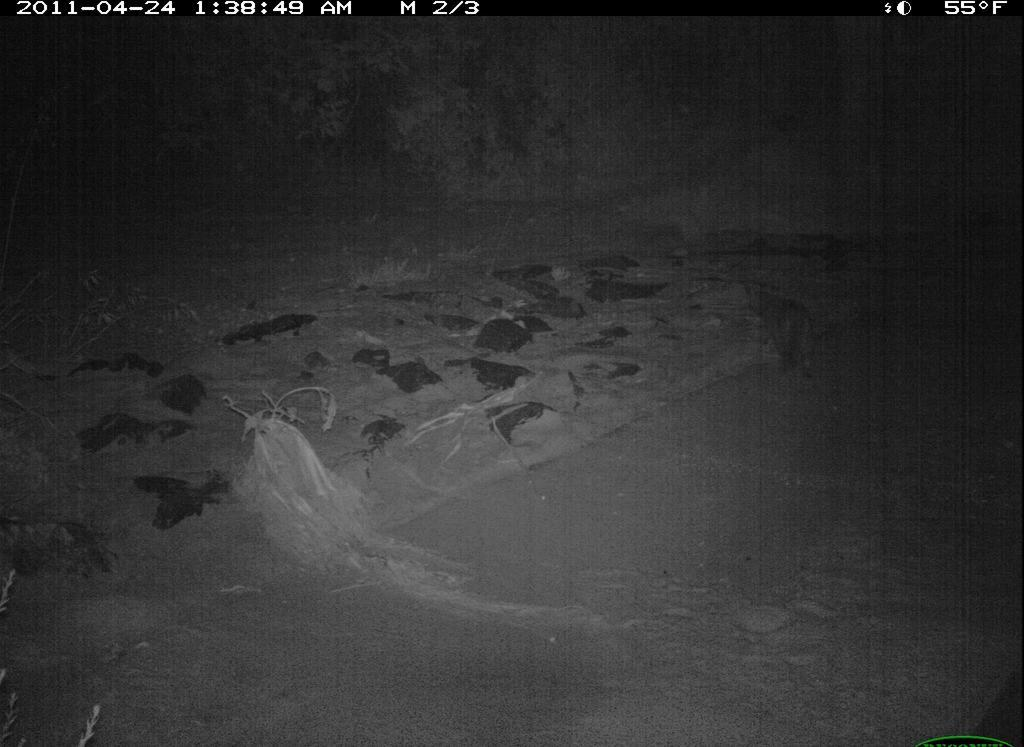cat: (742, 281, 822, 391)
